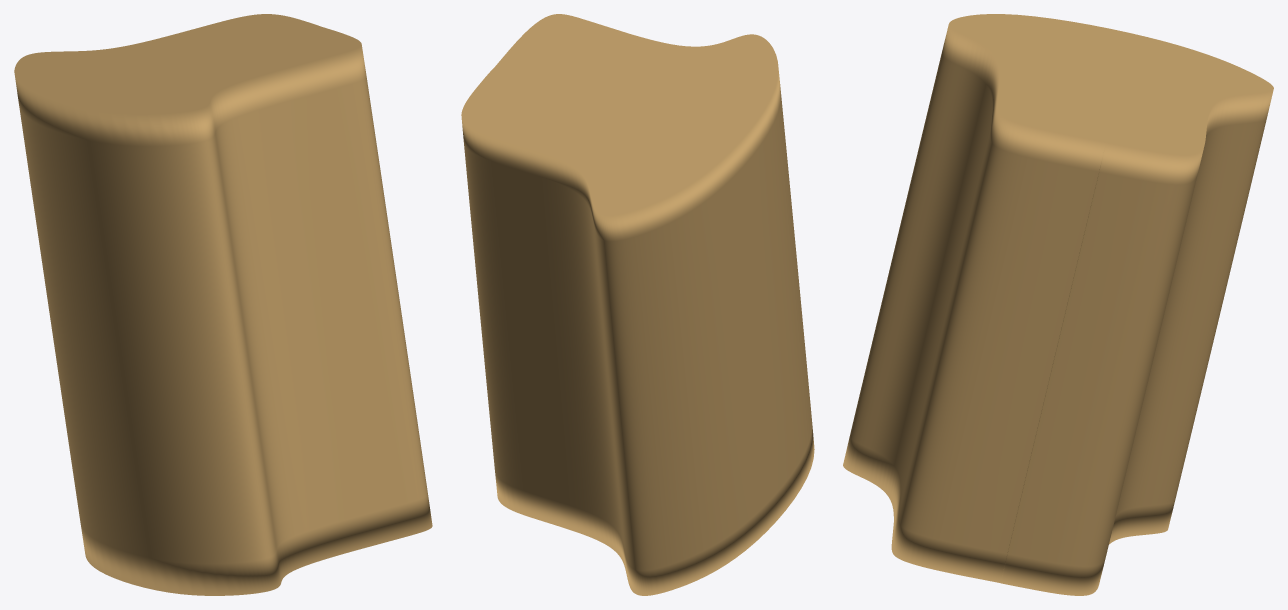
Rendered from bread.obj.
3 renders of one model, left to right at view 1: azimuth 30°, elevation 25°; view 2: azimuth 150°, elevation 25°; view 3: azimuth 270°, elevation 25°, orthographic. The views are drawn at different scales.
Parts seen in each view (by area): view 1: p.0011; view 2: p.0011; view 3: p.0011.
Boxes of the visible parts, x1,y1,x2,y2 form: p.0011: (14, 14, 432, 595); p.0011: (461, 14, 814, 595); p.0011: (843, 14, 1273, 595).
Size of the model in its own units: 7.35 by 12.85 by 10.07.
